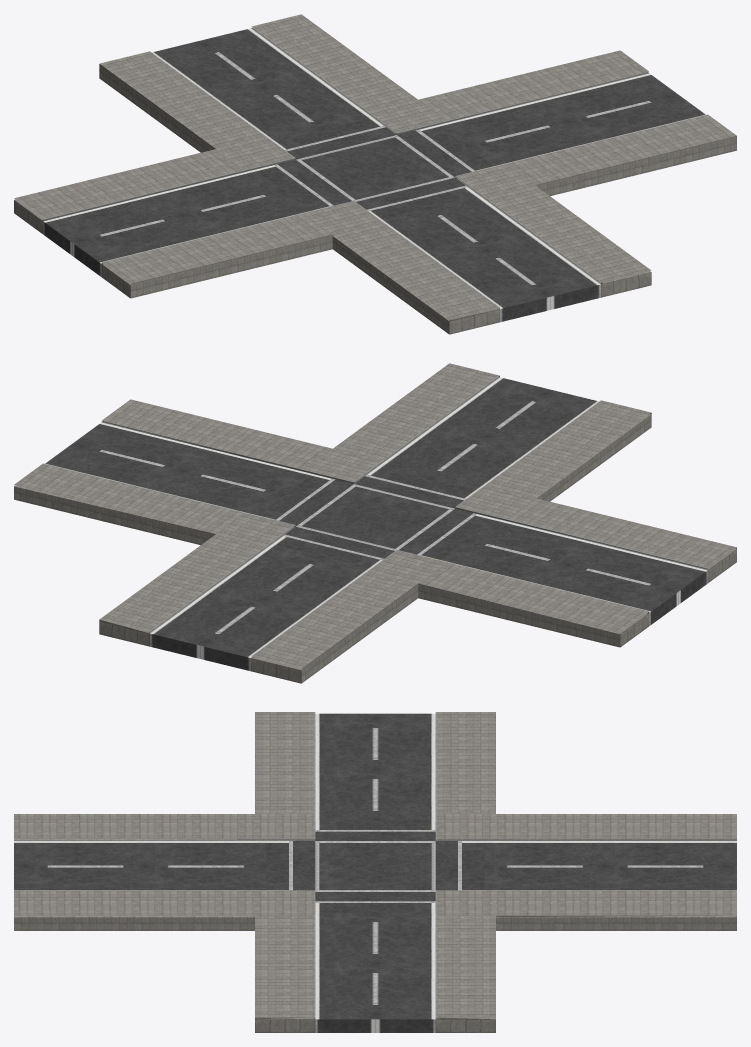
Rendered from SingleCross_1.fbx.
The picture shows the model from 3 angles, top to bottom: view 1: azimuth 30°, elevation 25°; view 2: azimuth 150°, elevation 25°; view 3: azimuth 270°, elevation 25°; orthographic projection. The views are drawn at different scales.
Parts seen in each view (by area): view 1: materialH150, materialA150, materialC150, materialE150, materialG150, materialD150, materialF150; view 2: materialH150, materialA150, materialC150, materialE150, materialG150, materialD150, materialF150; view 3: materialH150, materialA150, materialC150, materialE150, materialG150, materialD150, materialF150.
Part boxes in pixels (<box>): materialH150: <box>14,14,736,334</box>; materialA150: <box>43,28,705,322</box>; materialC150: <box>255,118,493,219</box>; materialE150: <box>277,127,471,209</box>; materialG150: <box>42,26,708,307</box>; materialD150: <box>274,126,474,211</box>; materialF150: <box>42,28,648,309</box>; materialH150: <box>14,363,736,683</box>; materialA150: <box>45,377,707,671</box>; materialC150: <box>257,467,495,568</box>; materialE150: <box>279,476,473,558</box>; materialG150: <box>42,375,708,656</box>; materialD150: <box>276,475,476,560</box>; materialF150: <box>102,376,707,658</box>; materialH150: <box>14,712,736,1032</box>; materialA150: <box>14,713,736,1032</box>; materialC150: <box>266,820,484,912</box>; materialE150: <box>293,831,457,901</box>; materialG150: <box>14,712,736,1018</box>; materialD150: <box>289,830,461,902</box>; materialF150: <box>14,839,736,1019</box>.
Bounding box in the file's own units: 76.8 × 1.8 × 76.8.
